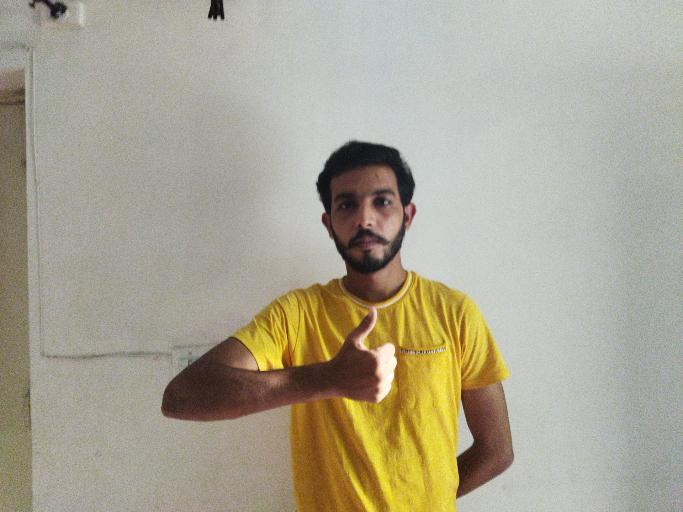like: (334, 304, 398, 406)
